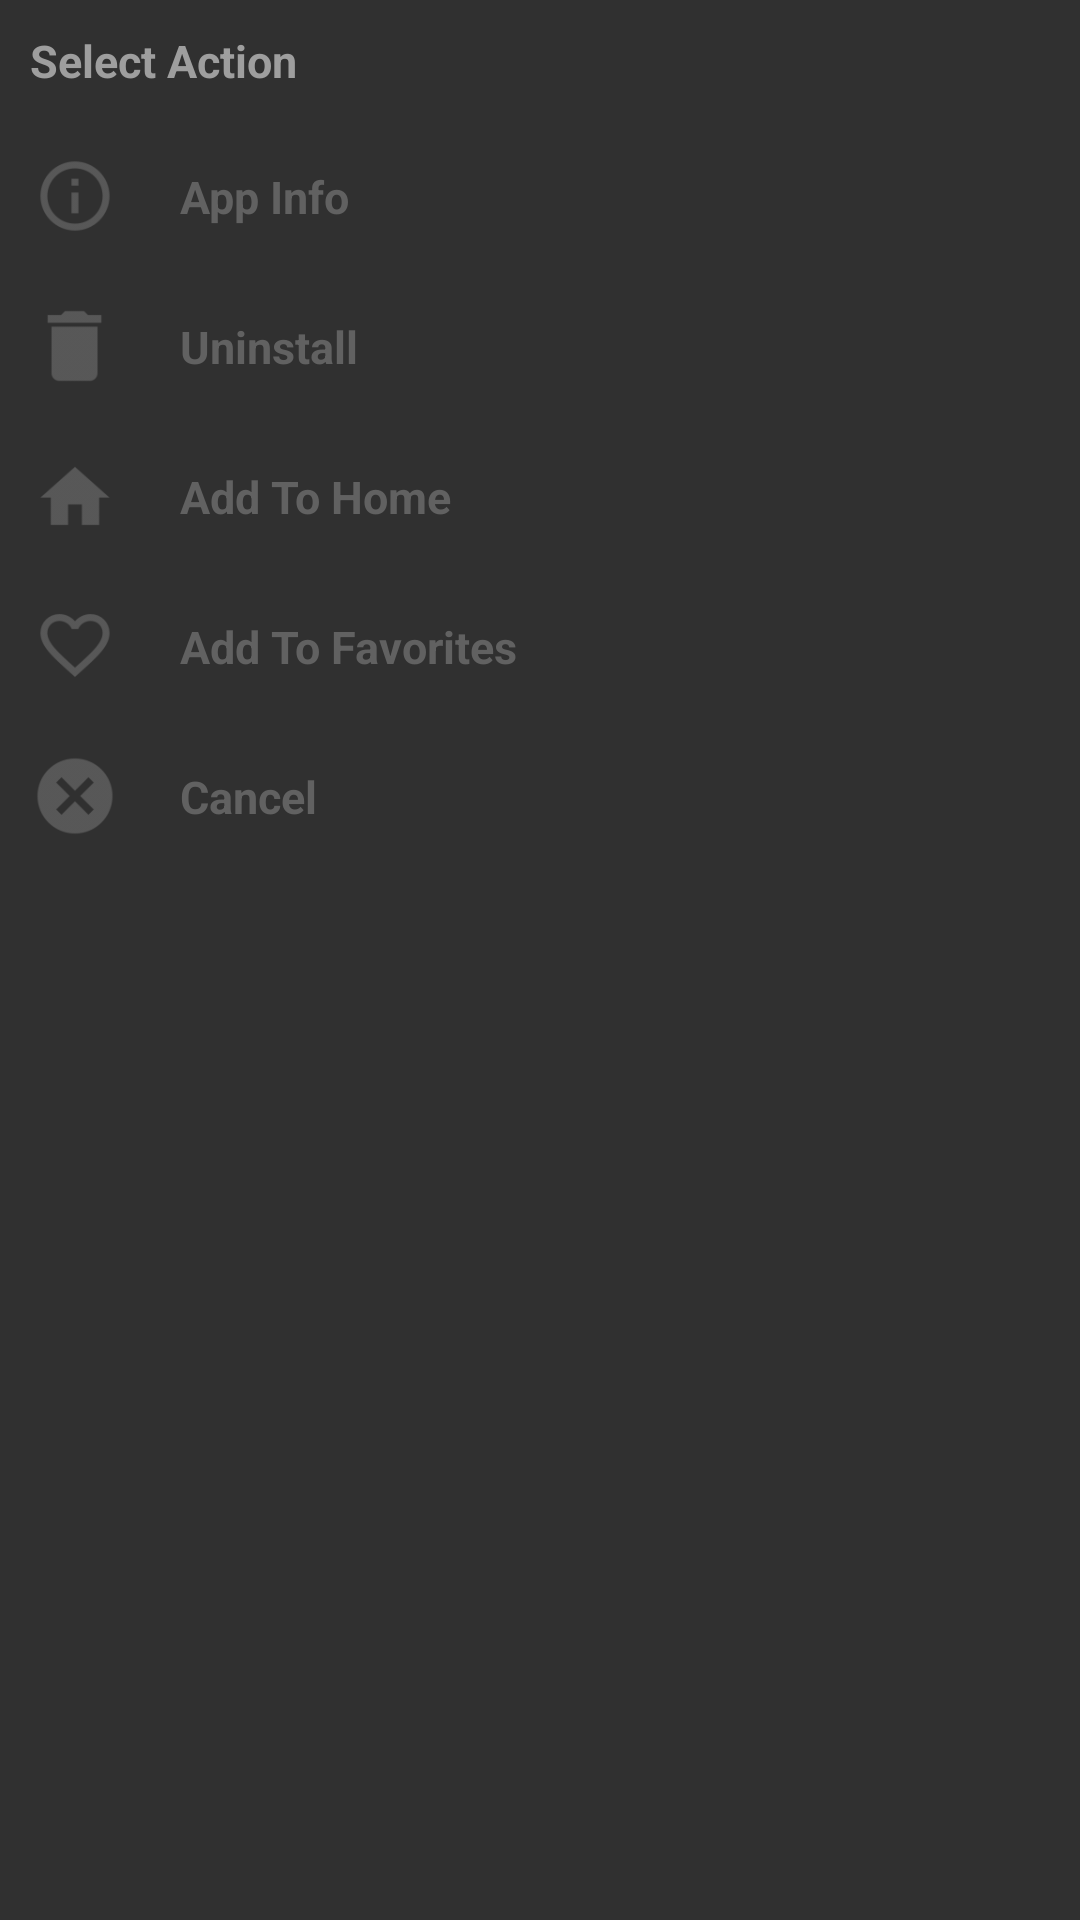

Icon bounding boxes for this 1080×1920 phone screenshot, format (x1, y1, x2, y2):
fav app: (41, 614, 109, 676)
